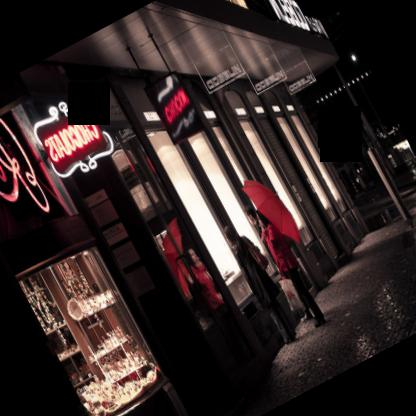handbag: (241, 235, 269, 270), (279, 273, 304, 312)
